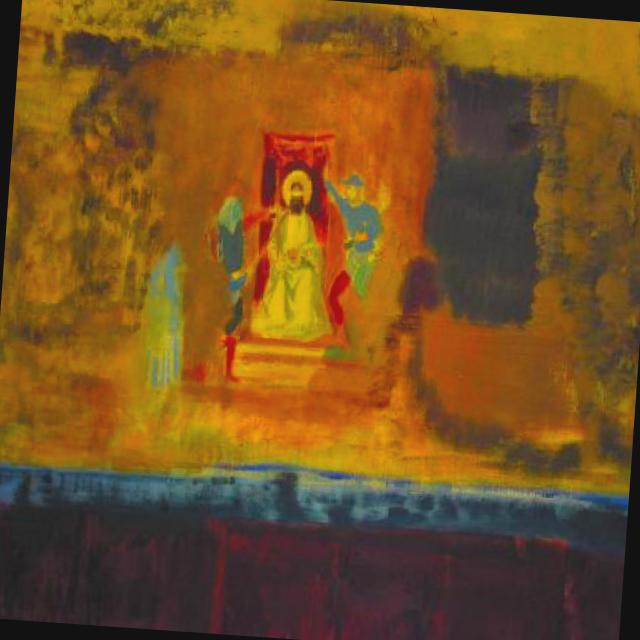Person: (248, 181, 343, 344), (311, 172, 386, 310)
